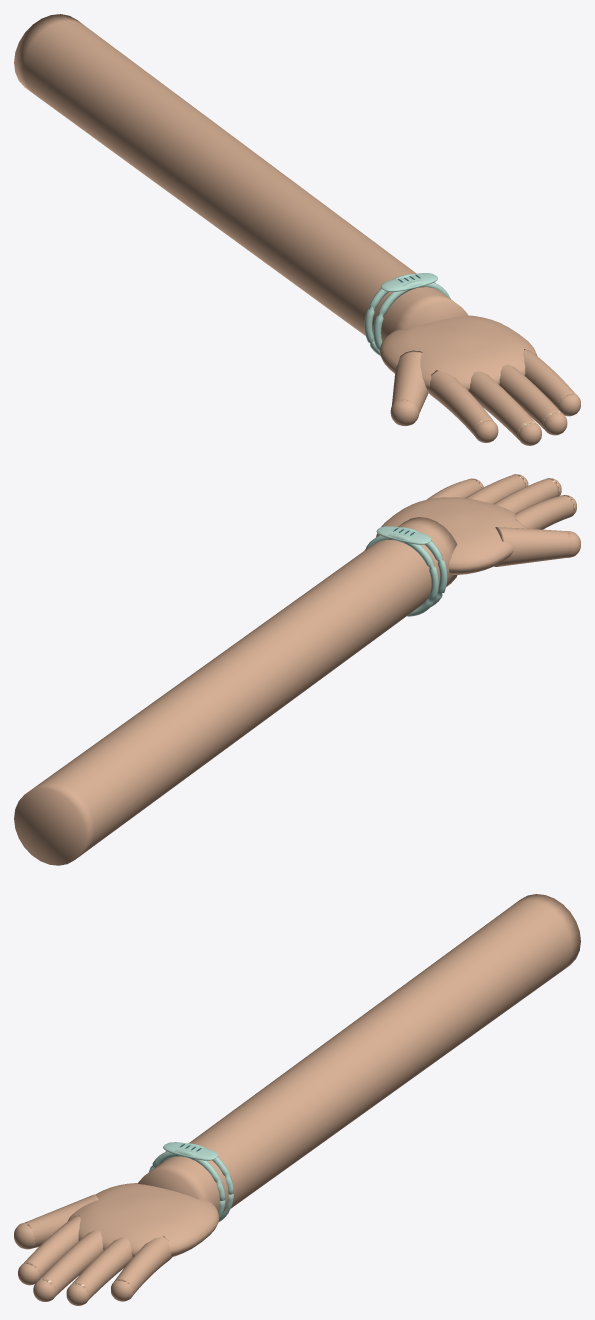
The model's file is hand_art19.glb.
The picture shows the model from 3 angles, top to bottom: view 1: azimuth 30°, elevation 25°; view 2: azimuth 150°, elevation 25°; view 3: azimuth 330°, elevation 25°; orthographic projection. The views are drawn at different scales.
Parts seen in each view (by area): view 1: Static_Warm clay skin, Static_Plasma pale; view 2: Static_Warm clay skin, Static_Plasma pale; view 3: Static_Warm clay skin, Static_Plasma pale.
Part boxes in pixels (x1=…): Static_Warm clay skin: x1=14, y1=14, x2=580, y2=445; Static_Plasma pale: x1=364, y1=273, x2=450, y2=355; Static_Warm clay skin: x1=14, y1=474, x2=580, y2=865; Static_Plasma pale: x1=364, y1=526, x2=447, y2=616; Static_Warm clay skin: x1=14, y1=894, x2=580, y2=1305; Static_Plasma pale: x1=149, y1=1142, x2=233, y2=1221.
Bounding box in the file's own units: 1.69 × 0.832 × 9.08.
